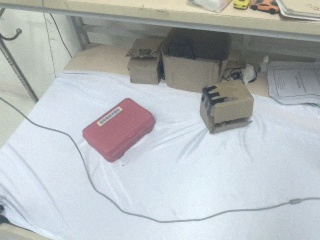box: (82, 94, 158, 164), (200, 80, 253, 134)
toy_car: (250, 1, 279, 14), (233, 1, 254, 10)
